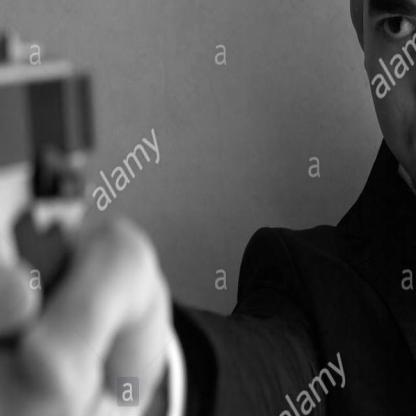gun: (0, 0, 135, 408)
